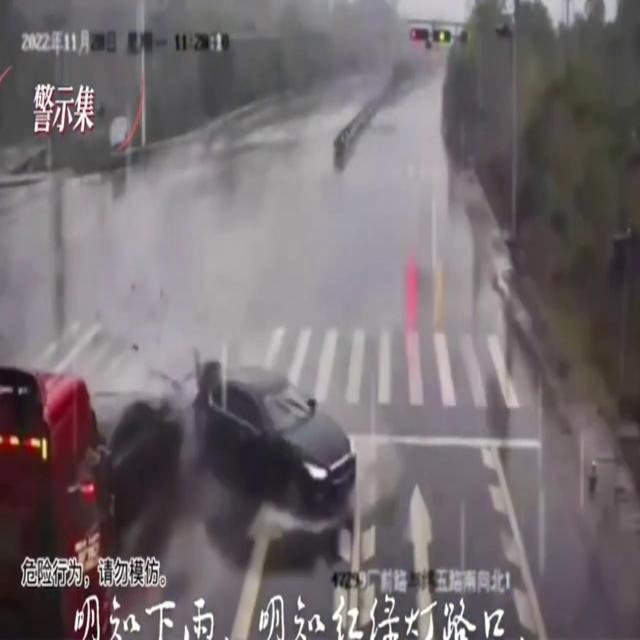multiple_accident: (92, 280, 365, 528)
